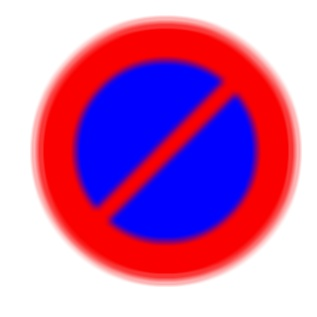Prohibition_sign: (27, 7, 297, 294)
